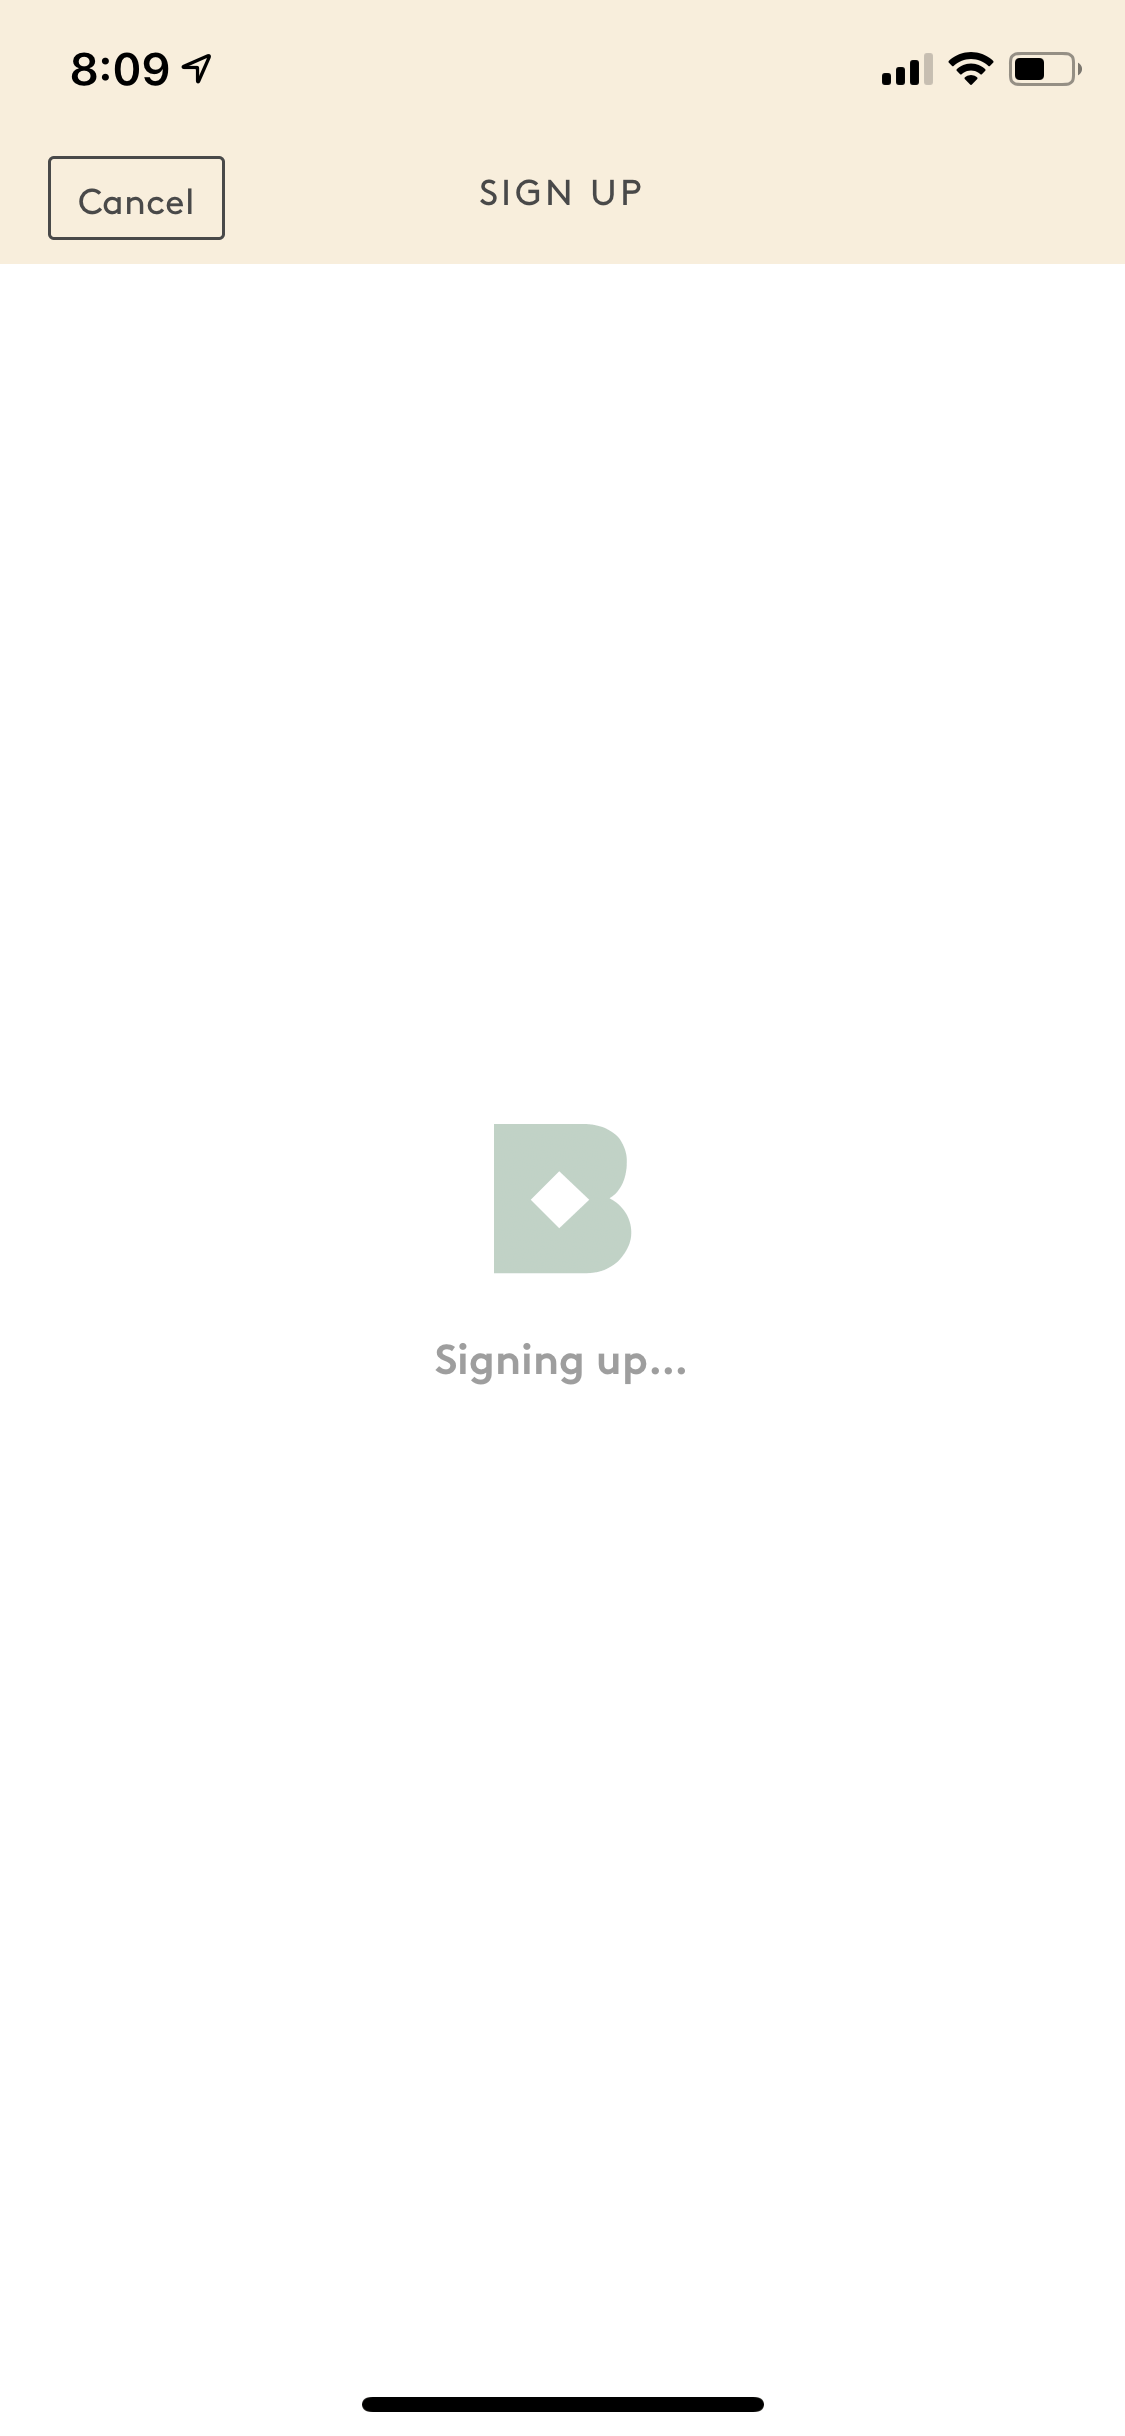Buttons: (44, 148, 233, 249)
